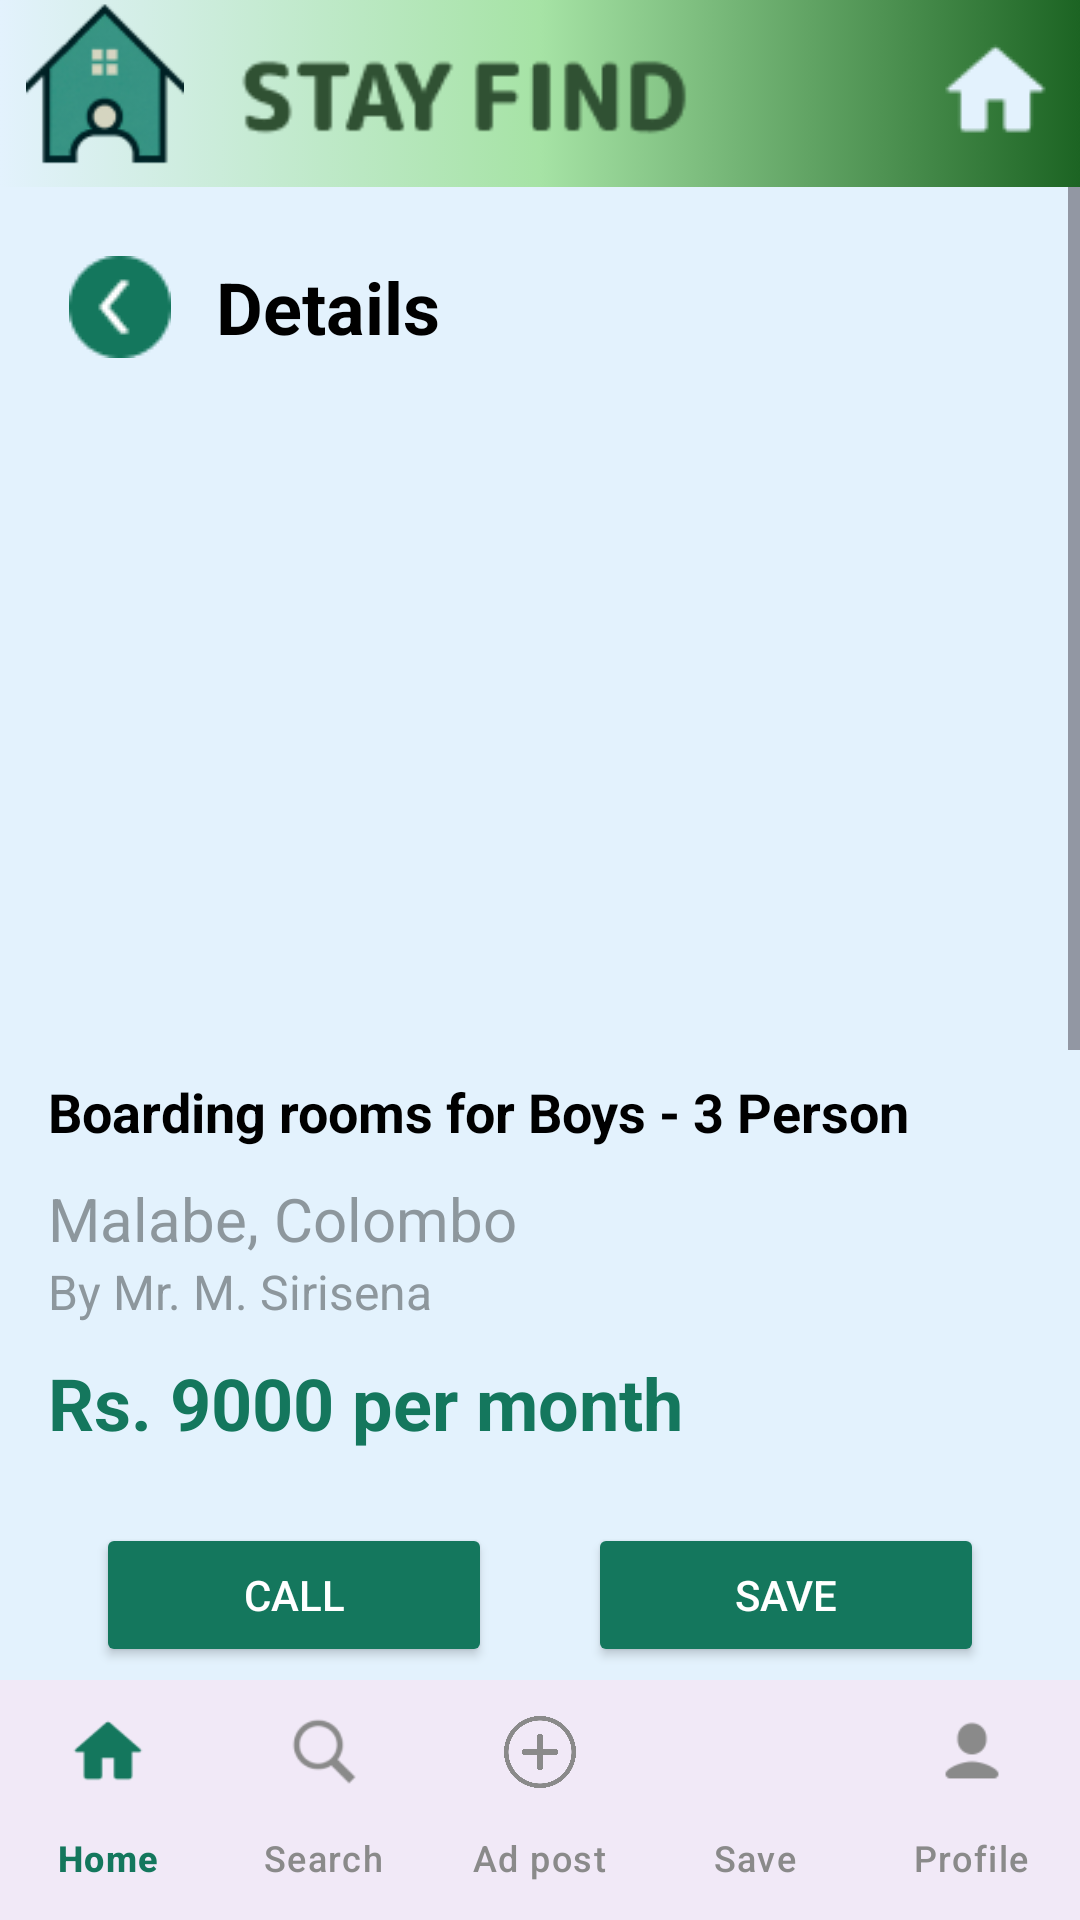

Screen size 1080 × 1920. Icon name, then its center in pixels as (x=x, y=y):
Back Button: (x=120, y=307)
homeicon: (x=994, y=91)
